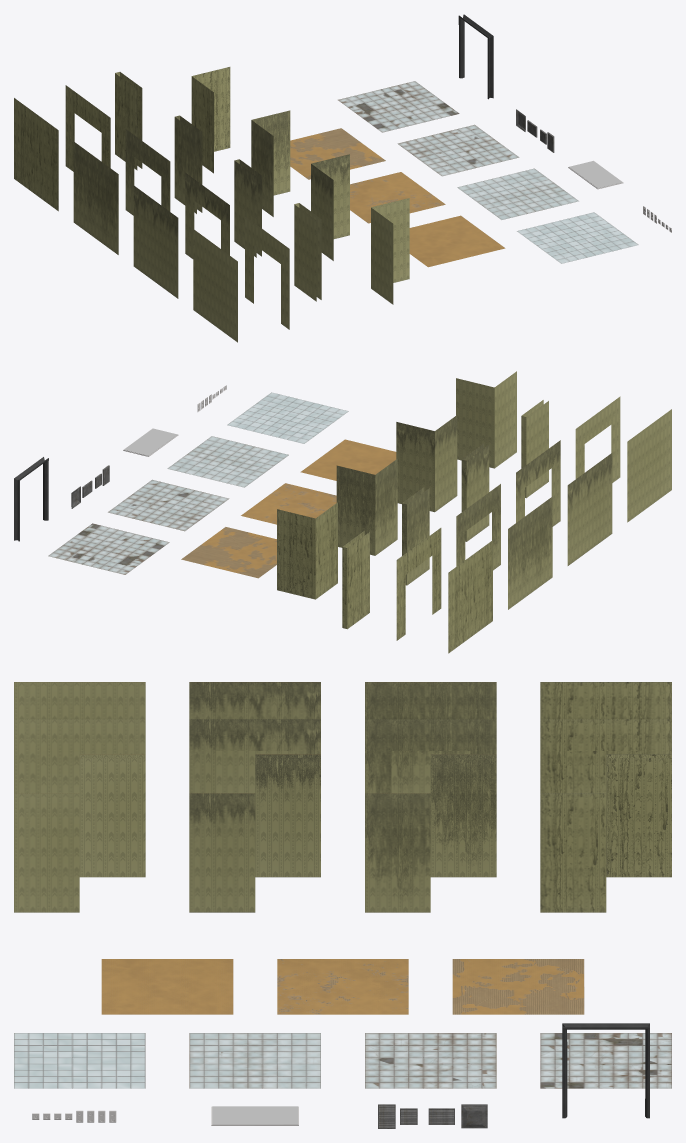
Rendered from backrooms.obj.
The picture shows the model from 3 angles, top to bottom: view 1: azimuth 30°, elevation 25°; view 2: azimuth 150°, elevation 25°; view 3: azimuth 270°, elevation 25°; orthographic projection. The views are drawn at different scales.
Parts seen in each view (by area): view 1: Wall_Dirty, Wall_Scratched, Wall_Wet, Wall_Clean, Tile_Broken_1, Tile_Broken_2, Tile_Clean, Tile_Dirty, Corner_Clean, Corner_Scratched, Corner_Wet, Floor_Clean (+13 smaller); view 2: Corner_Wet, Corner_Dirty, Corner_Scratched, Corner_Clean, Wall_Dirty, Wall_Clean, Wall_Scratched, Wall_Wet, Tile_Broken_2, Tile_Clean, Tile_Dirty, Tile_Broken_1 (+13 smaller); view 3: DoorFrame_Clean, DoorFrame_Scratched, DoorFrame_Dirty, DoorFrame_Wet, Corner_Dirty, Corner_Wet, Corner_Clean, Corner_Scratched, Floor_Clean, Floor_Torn_2, Floor_Torn_1, Tile_Clean (+14 smaller).
Part boxes in pixels (x1=…): Wall_Dirty: x1=133, y1=185, x2=178, y2=298; Wall_Scratched: x1=73, y1=141, x2=118, y2=254; Wall_Wet: x1=14, y1=98, x2=58, y2=211; Wall_Clean: x1=193, y1=229, x2=237, y2=342; Tile_Broken_1: x1=397, y1=124, x2=519, y2=176; Tile_Broken_2: x1=338, y1=81, x2=459, y2=132; Tile_Clean: x1=517, y1=212, x2=638, y2=263; Tile_Dirty: x1=457, y1=168, x2=578, y2=219; Corner_Clean: x1=371, y1=198, x2=409, y2=304; Corner_Scratched: x1=251, y1=110, x2=290, y2=216; Corner_Wet: x1=191, y1=67, x2=230, y2=173; Floor_Clean: x1=409, y1=215, x2=505, y2=267; Corner_Wet: x1=277, y1=502, x2=337, y2=599; Corner_Dirty: x1=396, y1=415, x2=457, y2=512; Corner_Scratched: x1=336, y1=459, x2=397, y2=555; Corner_Clean: x1=456, y1=371, x2=516, y2=468; Wall_Dirty: x1=567, y1=453, x2=612, y2=565; Wall_Clean: x1=627, y1=409, x2=671, y2=522; Wall_Scratched: x1=508, y1=496, x2=552, y2=609; Wall_Wet: x1=448, y1=540, x2=492, y2=653; Tile_Broken_2: x1=48, y1=523, x2=169, y2=574; Tile_Clean: x1=227, y1=392, x2=348, y2=443; Tile_Dirty: x1=167, y1=436, x2=288, y2=487; Tile_Broken_1: x1=108, y1=479, x2=229, y2=531; DoorFrame_Clean: x1=79, y1=754, x2=145, y2=877; DoorFrame_Scratched: x1=430, y1=754, x2=496, y2=877; DoorFrame_Dirty: x1=255, y1=754, x2=320, y2=877; DoorFrame_Wet: x1=606, y1=754, x2=671, y2=877; Corner_Dirty: x1=189, y1=793, x2=255, y2=912; Corner_Wet: x1=540, y1=793, x2=606, y2=912; Corner_Clean: x1=14, y1=793, x2=79, y2=912; Corner_Scratched: x1=365, y1=793, x2=430, y2=912; Floor_Clean: x1=101, y1=959, x2=233, y2=1014; Floor_Torn_2: x1=452, y1=959, x2=584, y2=1014; Floor_Torn_1: x1=277, y1=959, x2=408, y2=1014; Tile_Clean: x1=14, y1=1033, x2=145, y2=1088.
Size of the model in its own units: 17.5 by 3.3 by 15.
Materials: 2 (1 with a texture image).
